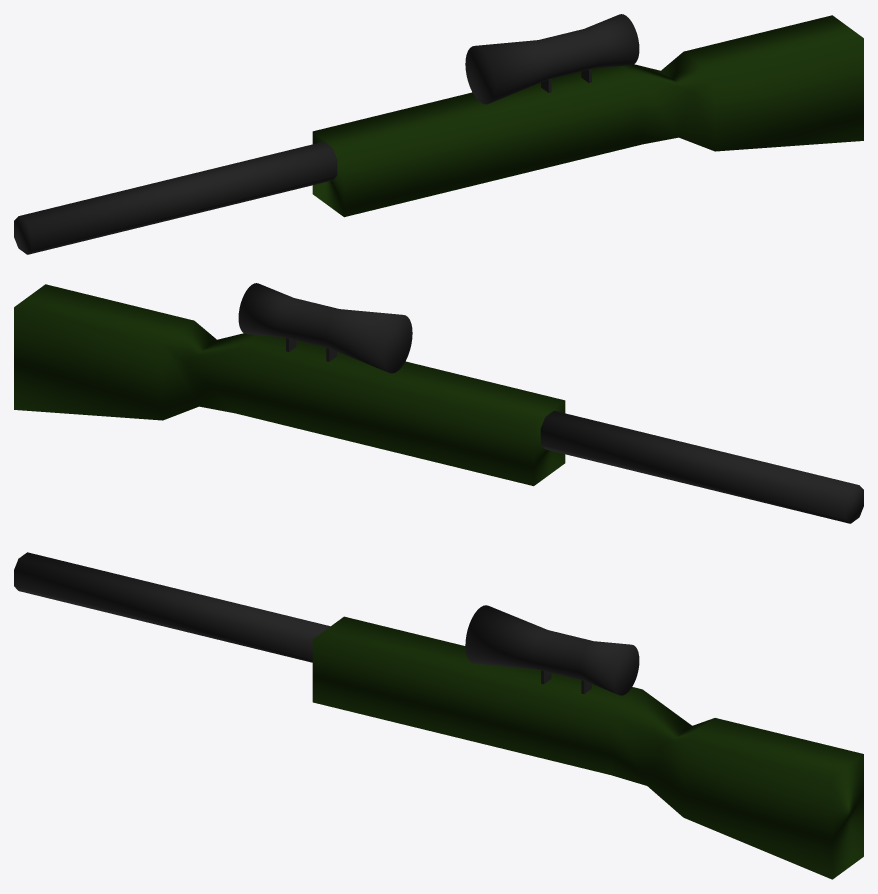
The model's file is sniper.glb.
3 views of the same model, one above another, from view 1: azimuth 30°, elevation 25°; view 2: azimuth 150°, elevation 25°; view 3: azimuth 330°, elevation 25° (orthographic).
Parts seen in each view (by area): view 1: Cube, Cube.001, Cylinder; view 2: Cube, Cube.001, Cylinder; view 3: Cube, Cube.001, Cylinder.
Part boxes in pixels (x1,y1,x2,y2): Cube: [312, 15, 863, 217]; Cube.001: [14, 141, 337, 254]; Cylinder: [465, 14, 639, 104]; Cube: [14, 284, 565, 486]; Cube.001: [540, 410, 863, 523]; Cylinder: [238, 283, 412, 373]; Cube: [312, 616, 863, 879]; Cube.001: [14, 552, 330, 662]; Cylinder: [465, 605, 639, 695].
Size of the model in its own units: 4.23 by 0.8384 by 0.28.
